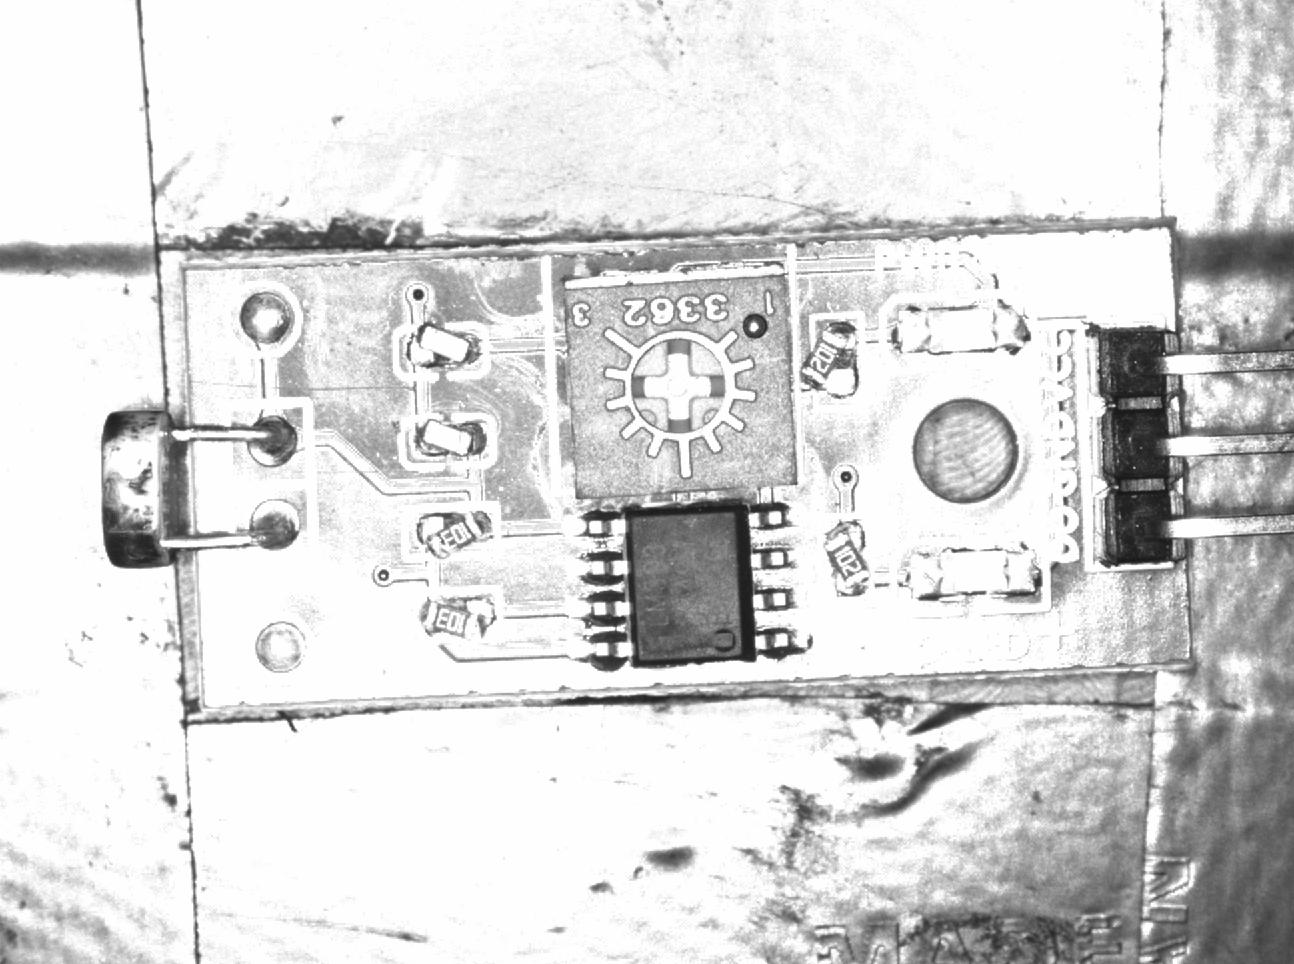lifted: (799, 315, 872, 401), (390, 323, 492, 380), (398, 415, 500, 469), (407, 592, 504, 645), (407, 507, 502, 557), (820, 518, 875, 605)
